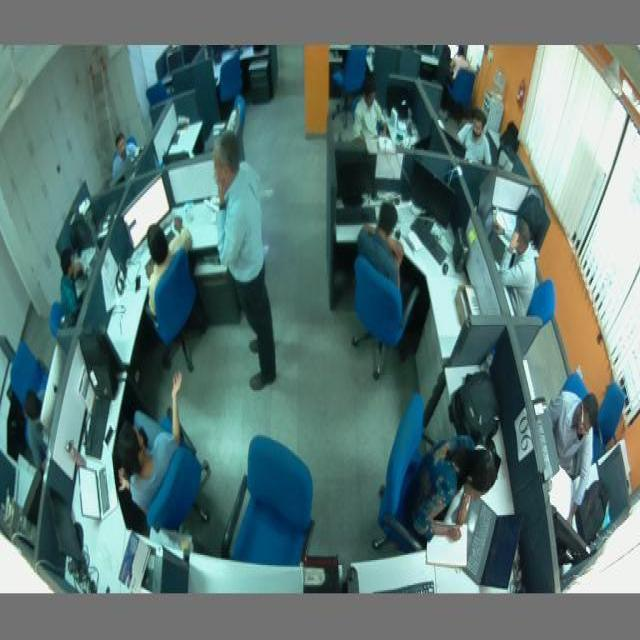chair: (222, 434, 316, 568), (354, 252, 420, 382), (380, 390, 428, 550), (150, 246, 202, 374), (145, 446, 213, 534), (8, 341, 48, 406), (598, 372, 626, 446), (334, 44, 368, 94), (532, 274, 556, 334), (215, 60, 246, 102), (450, 70, 474, 107), (562, 371, 586, 399), (144, 80, 172, 102), (48, 302, 63, 336), (232, 94, 246, 128)
keyboard: (410, 215, 450, 270), (328, 204, 379, 223), (382, 578, 438, 594)
laptop: (460, 493, 530, 592), (75, 458, 119, 524)
monitor: (402, 152, 472, 238), (120, 175, 175, 248), (49, 490, 92, 568), (333, 151, 378, 197), (474, 168, 498, 224)
person: (212, 132, 278, 393), (408, 437, 502, 543), (116, 372, 182, 516), (546, 390, 599, 528), (144, 215, 192, 320), (356, 198, 406, 285), (495, 216, 538, 312), (350, 75, 394, 143), (60, 244, 90, 324), (452, 112, 494, 168), (22, 385, 50, 467), (110, 125, 144, 183)
phone: (131, 273, 144, 295)
